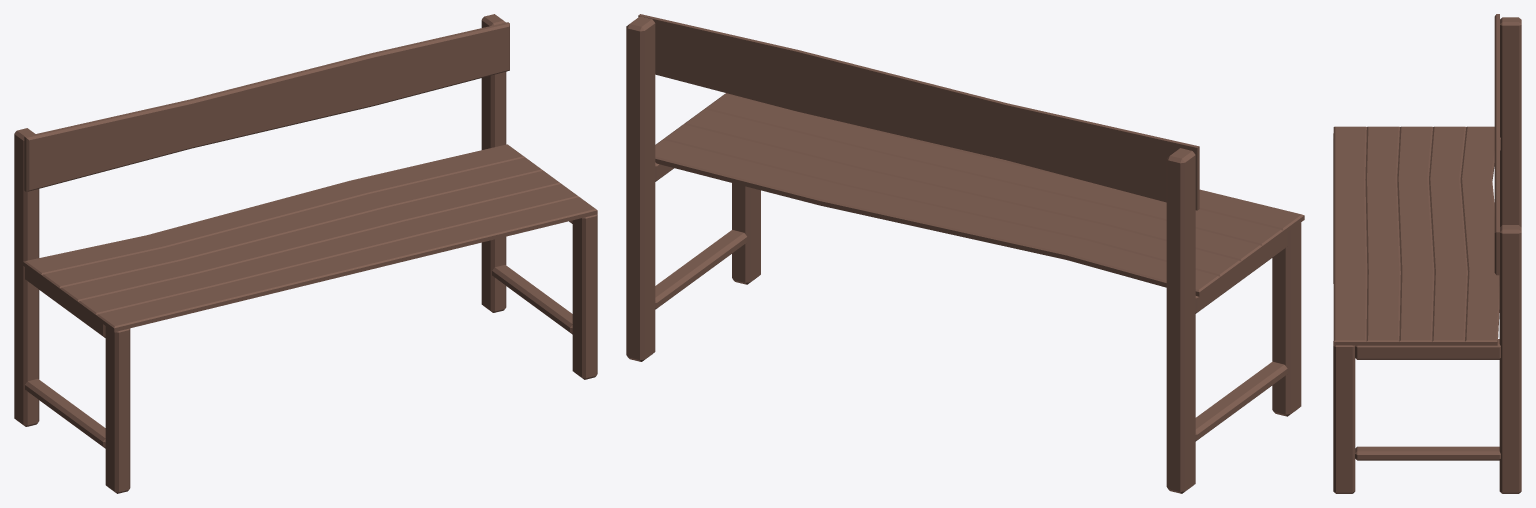
Rendered from bench_d003.glb.
The picture shows the model from 3 angles, left to right: view 1: azimuth 30°, elevation 25°; view 2: azimuth 150°, elevation 25°; view 3: azimuth 270°, elevation 25°; orthographic projection. The views are drawn at different scales.
Visible parts, largest first — view 1: bench_d003; view 2: bench_d003; view 3: bench_d003.
Boxes of the visible parts, left/top/right/bottom form: bench_d003: left=14, top=14, right=597, bottom=493; bench_d003: left=626, top=14, right=1304, bottom=493; bench_d003: left=1333, top=14, right=1521, bottom=493.
Size of the model in its own units: 1.38 by 0.7921 by 0.5083.
Materials: 1 (1 with a texture image).
